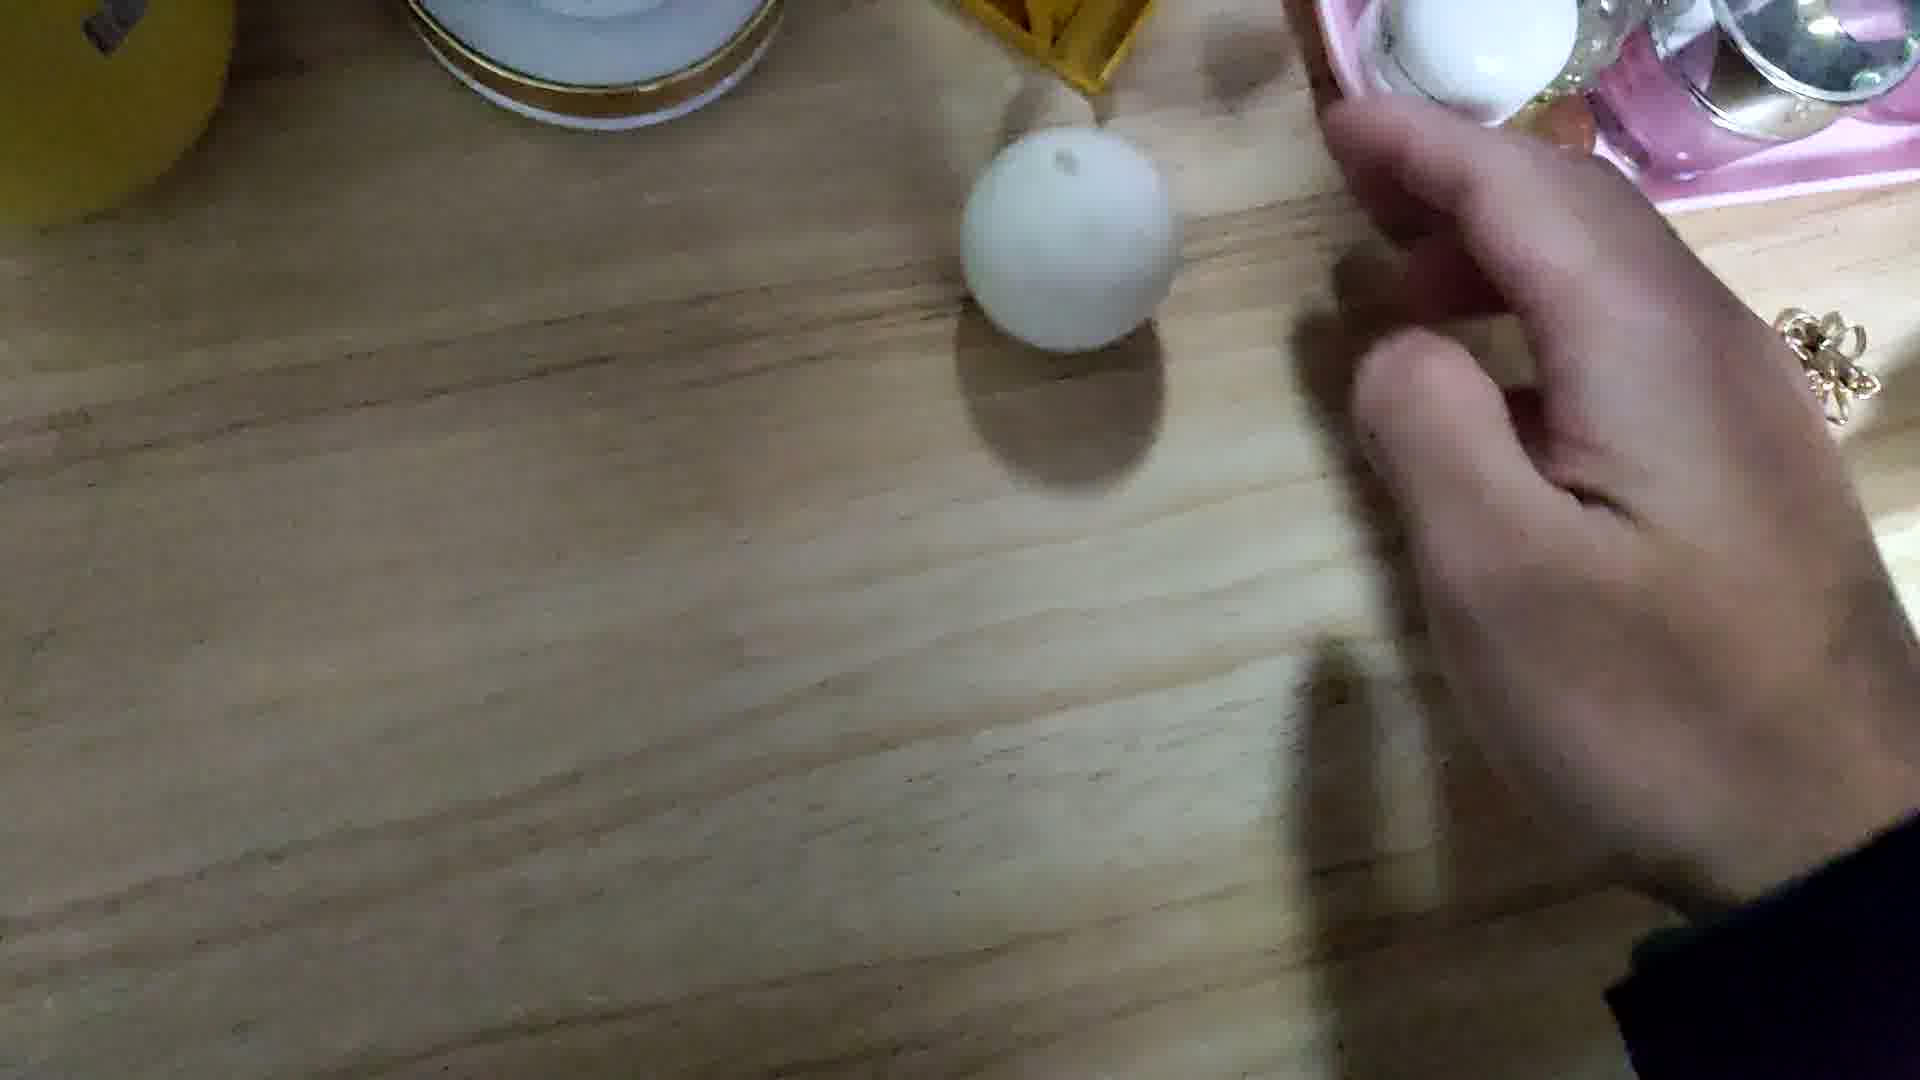Ball: (963, 127, 1188, 353)
